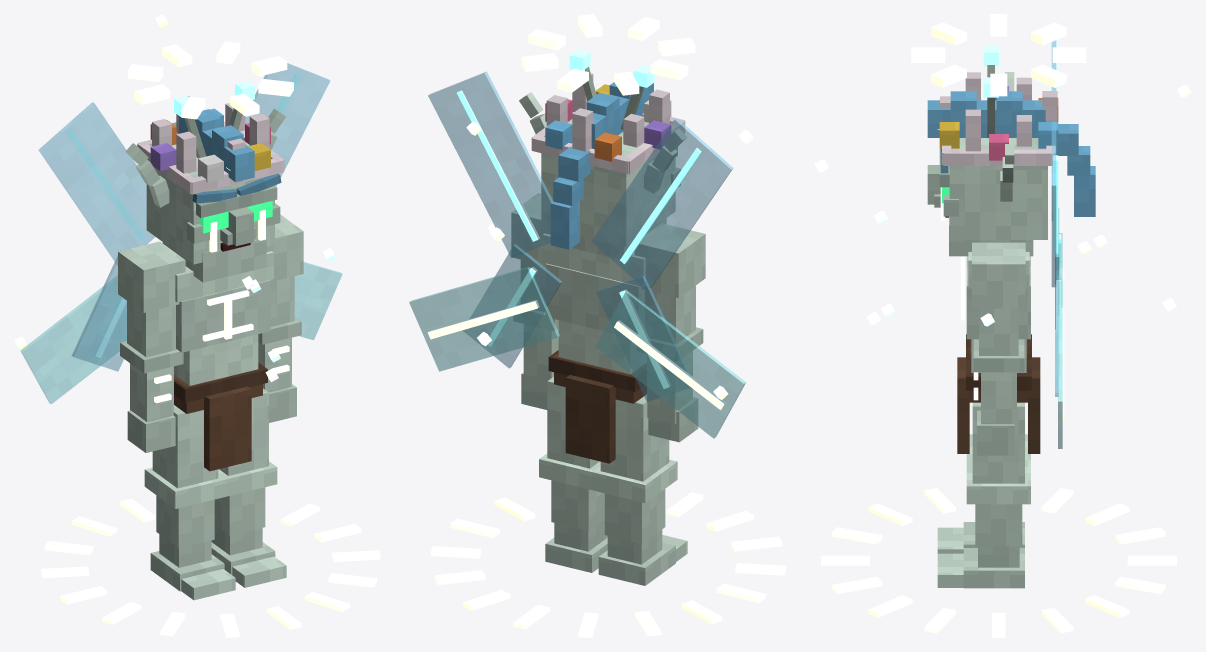
The model's file is fairy_base_evo3.glb.
3 renders of one model, left to right at view 1: azimuth 30°, elevation 25°; view 2: azimuth 150°, elevation 25°; view 3: azimuth 270°, elevation 25°, orthographic. The views are drawn at different scales.
Parts seen in each view (by area): view 1: Torso, Head, ArmR, LegR, LegL, Root, ArmL; view 2: Torso, Head, LegR, ArmR, LegL, Root, ArmL; view 3: Head, ArmL, Torso, LegL, Root, LegR.
Boxes of the visible parts, x1,y1,x2,y2 form: Torso: (14,14,342,471); Head: (125,41,293,282); ArmR: (118,241,185,452); LegR: (144,405,235,600); LegL: (211,388,286,587); Root: (41,498,380,637); ArmL: (258,214,303,422); Torso: (409,71,753,463); Head: (519,14,695,259); LegR: (592,394,687,585); ArmR: (634,223,705,442); LegL: (539,377,607,572); Root: (431,492,785,637); ArmL: (511,193,558,409); Head: (911,14,1095,256); ArmL: (972,242,1025,455); Torso: (814,40,1191,453); LegL: (937,402,1030,588); Root: (821,488,1176,637); LegR: (937,434,1030,553).
Bounding box in the file's own units: 0.7806 × 1.14 × 0.7622.
Materials: 34 (34 with a texture image).
